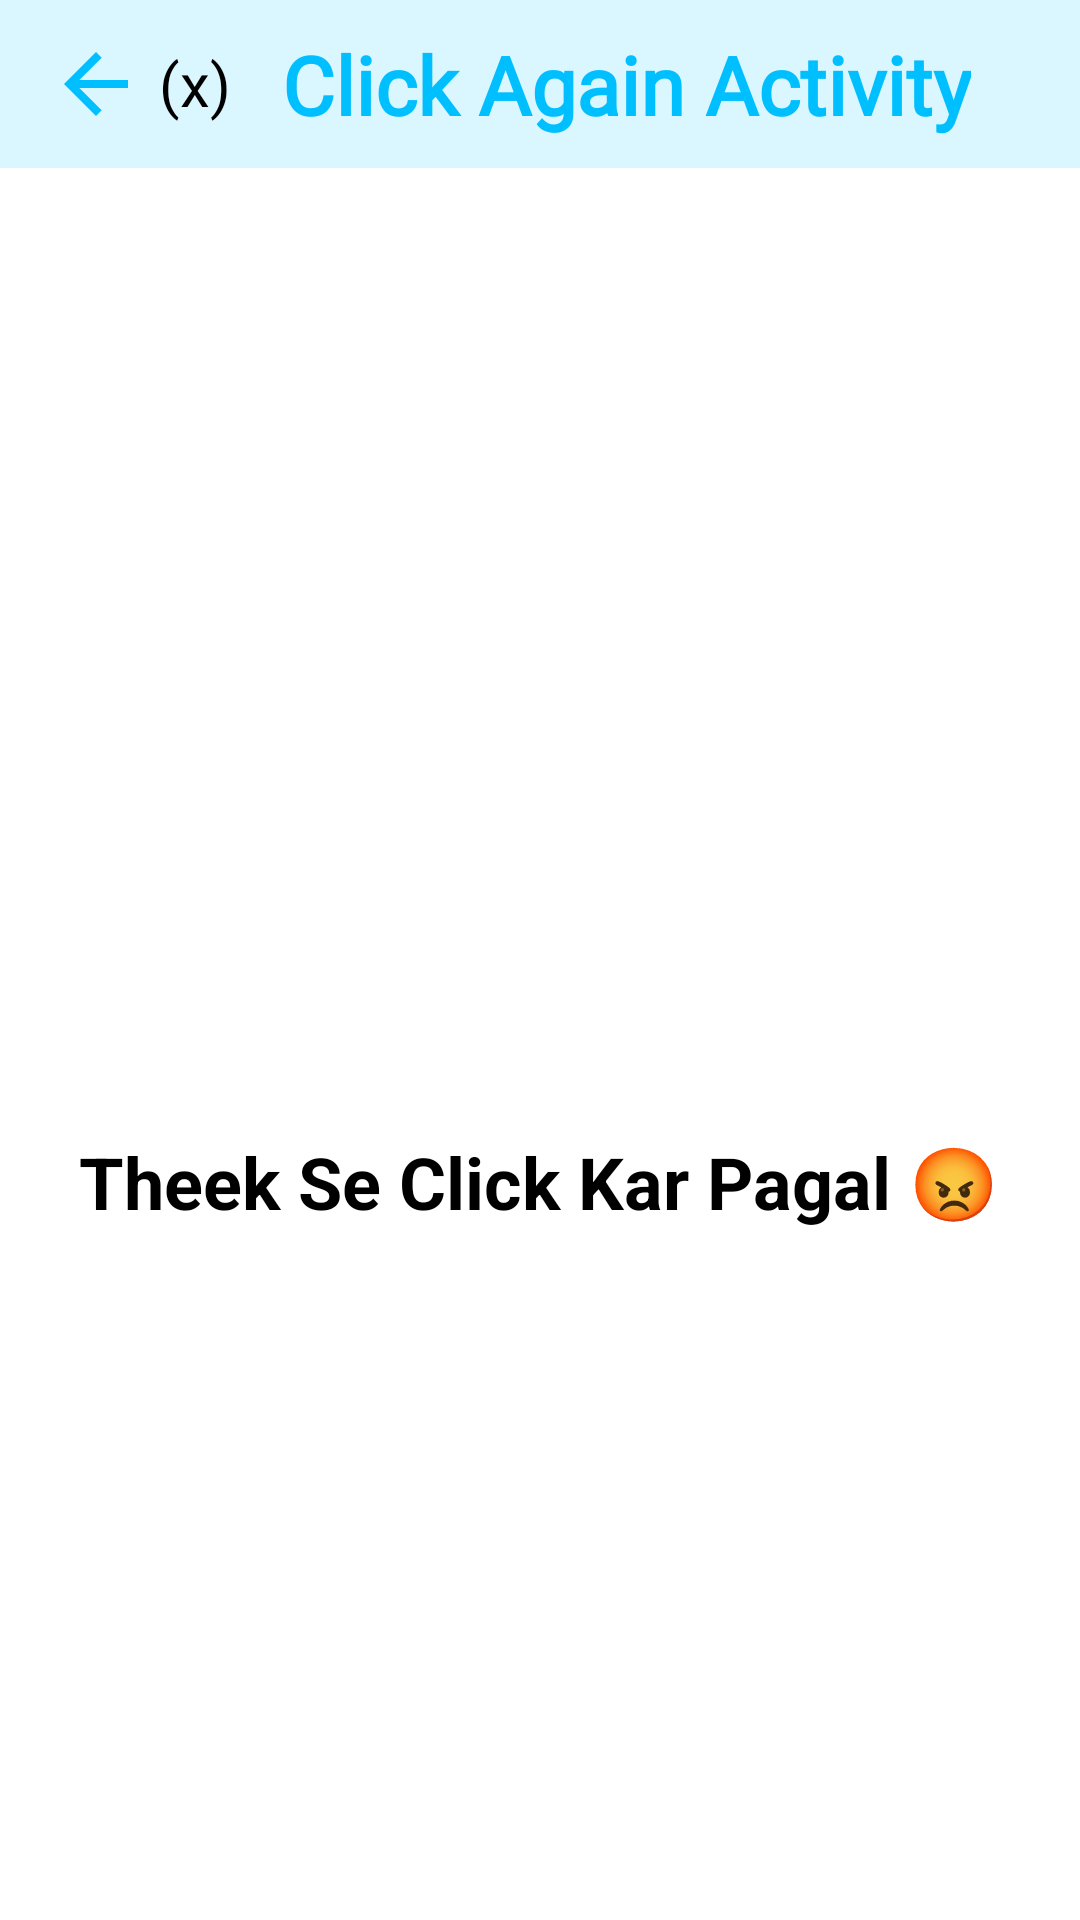

Screen size 1080x1920. Icon name, then its box in pixels as (x1, y1, x2, y2):
back arrow: (64, 52, 128, 116)
